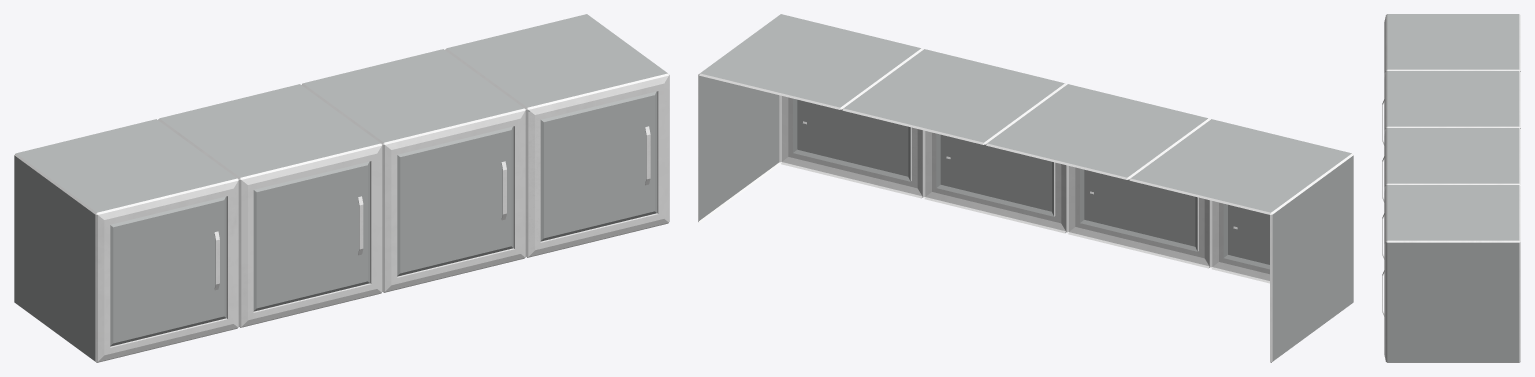
File: Cupboards.fbx
3 renders of one model, left to right at view 1: azimuth 30°, elevation 25°; view 2: azimuth 150°, elevation 25°; view 3: azimuth 270°, elevation 25°, orthographic. The views are drawn at different scales.
Visible parts, largest first — view 1: Cupboards; view 2: Cupboards; view 3: Cupboards.
Boxes of the visible parts, x1,y1,x2,y2 form: Cupboards: [14, 14, 669, 362]; Cupboards: [698, 14, 1353, 362]; Cupboards: [1382, 14, 1520, 362].
Bounding box in the file's own units: 240 × 60 × 61.57.
